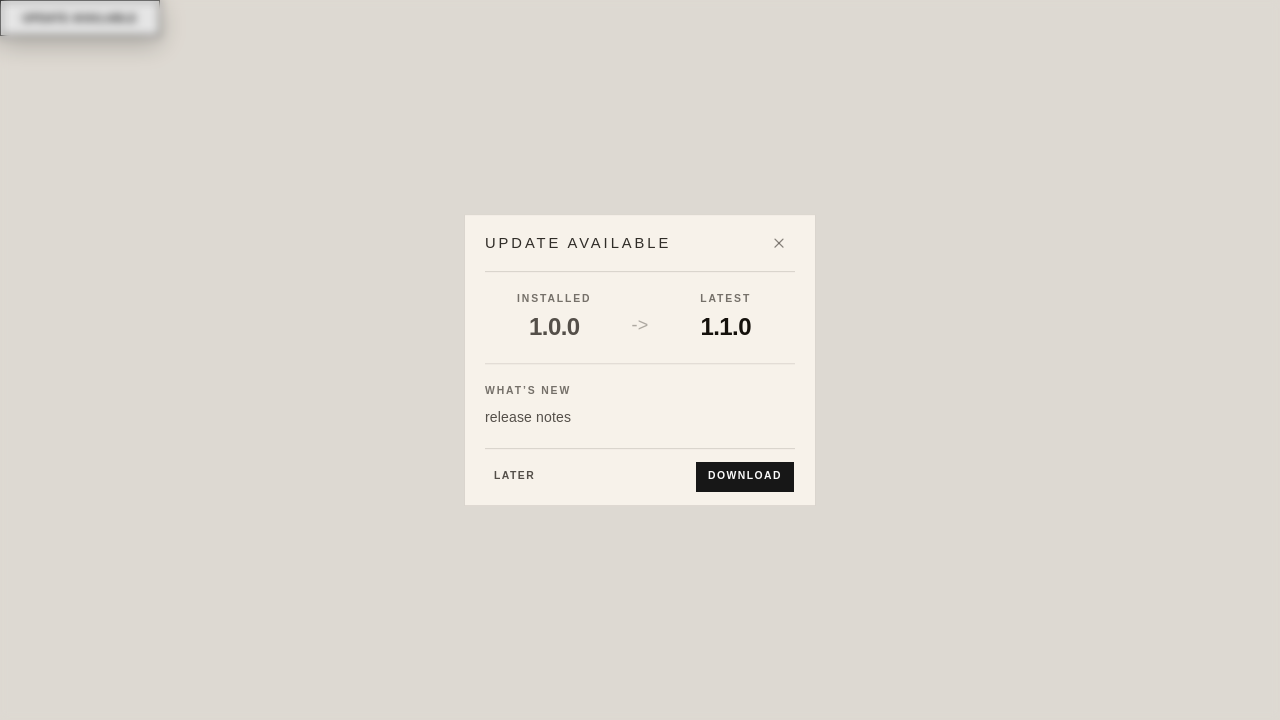
Test: app updater › only checks and displays on home and keeps a dismissed update available
The image size is (1280, 720).
Expected: the dialog is shown, [464,214,816,506]
Click the button "LATER" at (515, 477), box [485,461,544,493]
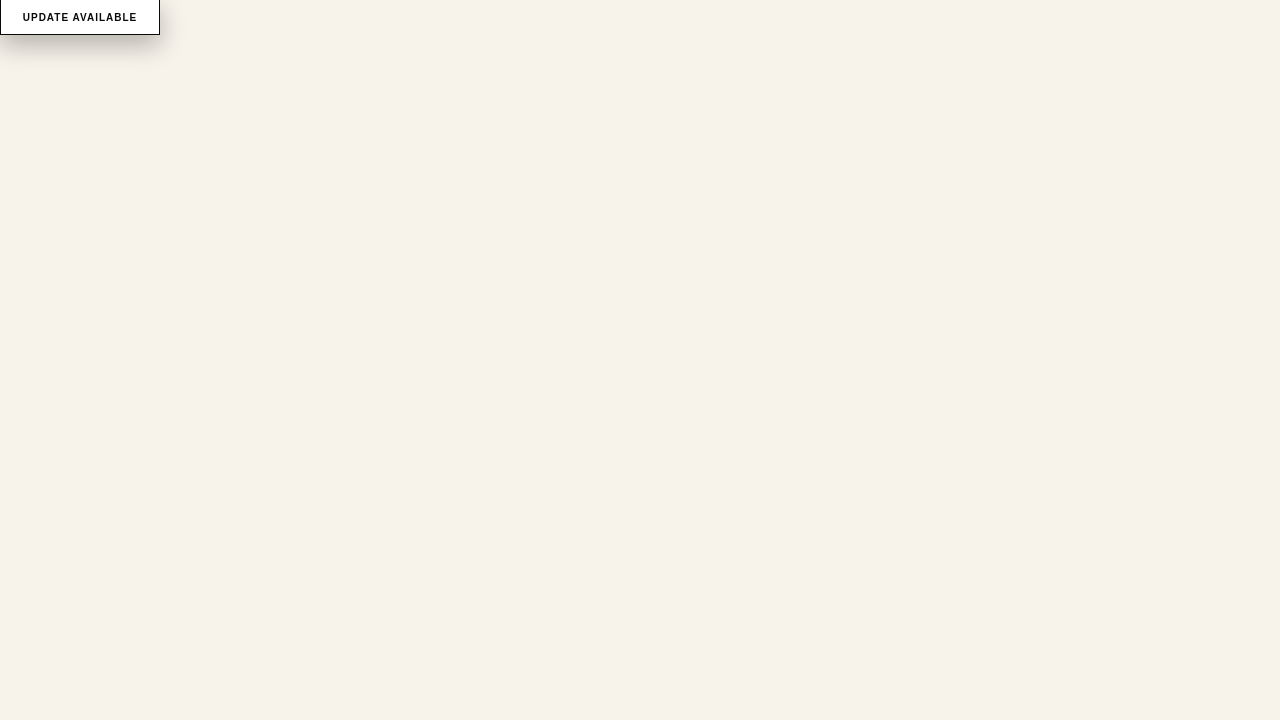
Expected: the button "Update available" is shown, [0,0,160,35]
Result: the dialog is gone
